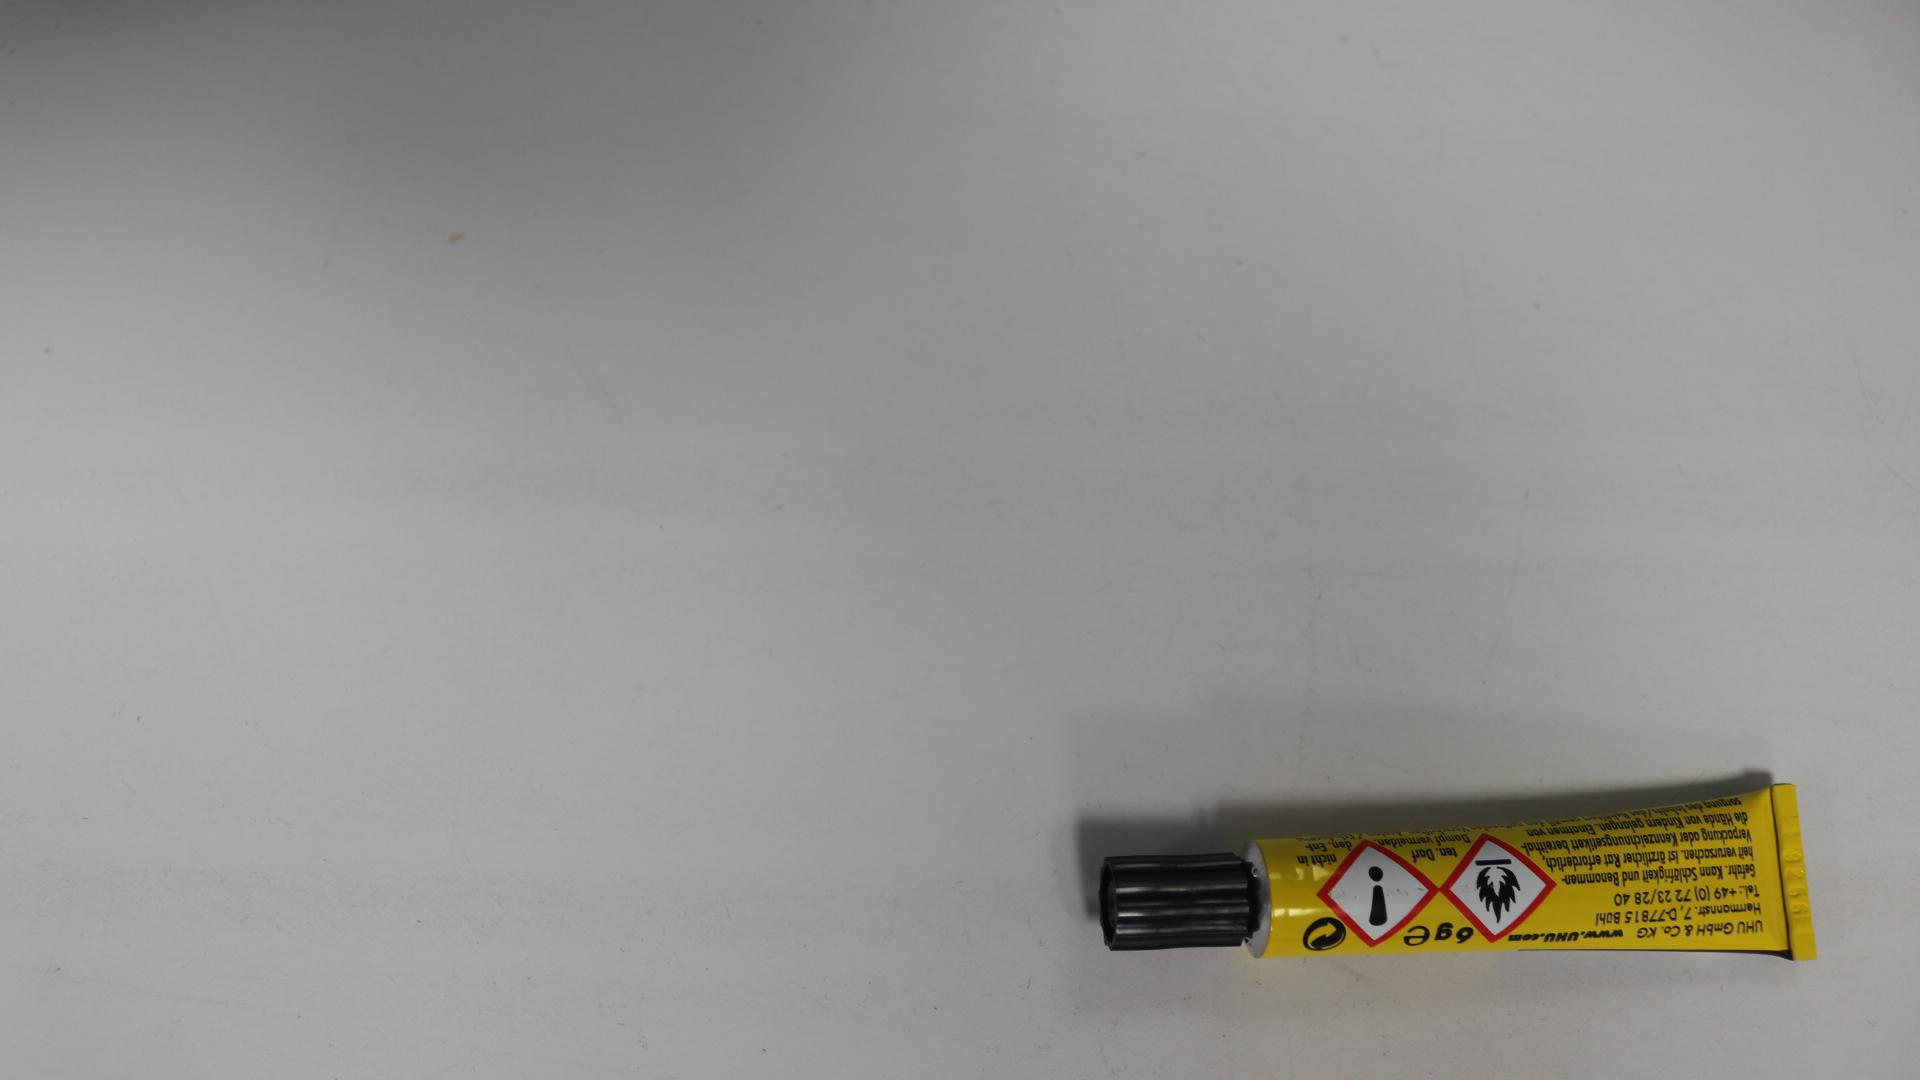Head: (1169, 893, 1190, 913)
Tail: (1787, 861, 1803, 888)
Tube: (1097, 784, 1816, 960)
